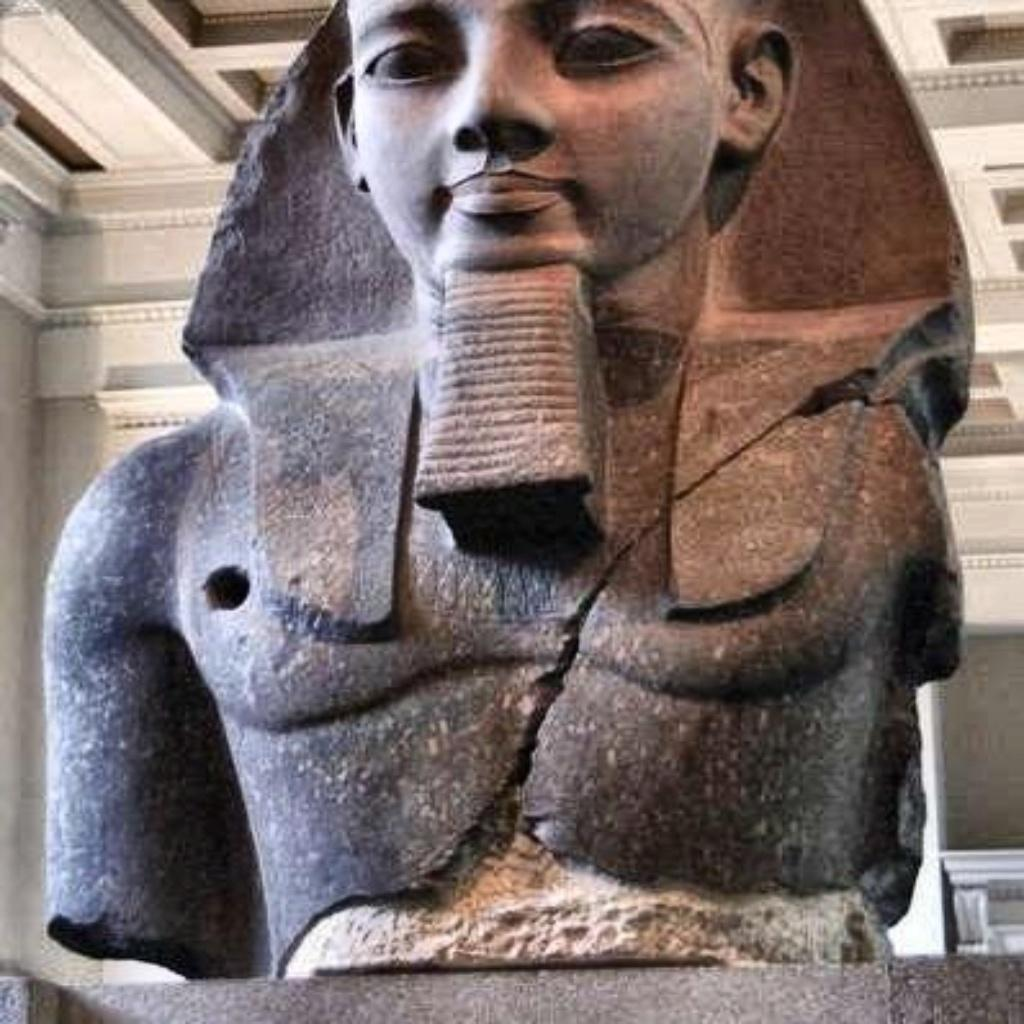bust of Ramesses II: (36, 0, 980, 981)
